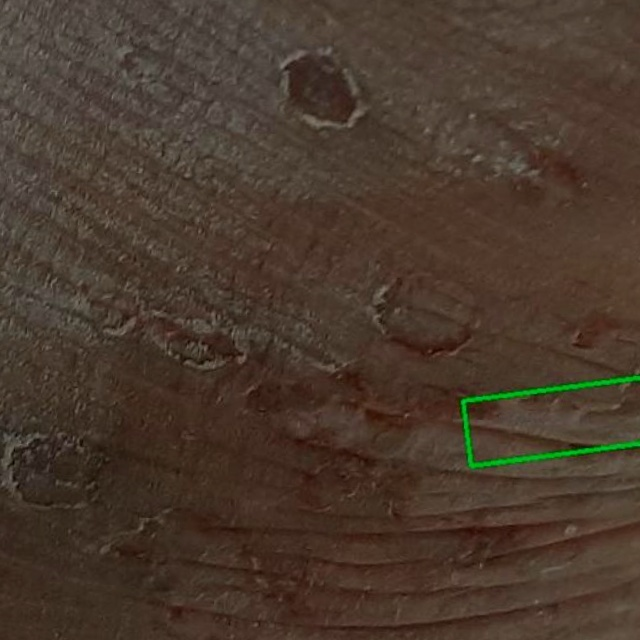Contact Dermatitis: (461, 376, 639, 467)
